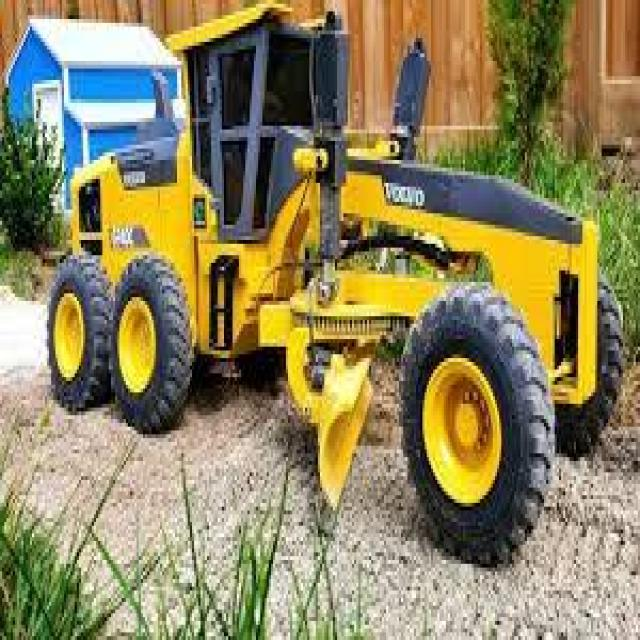buldozerpayloadergrader: (51, 4, 630, 579)
